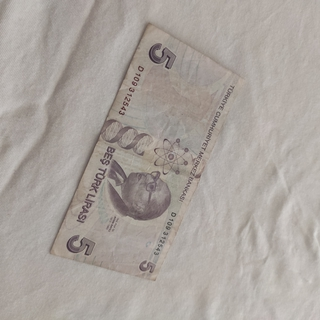5TLBack: (48, 22, 244, 281)
